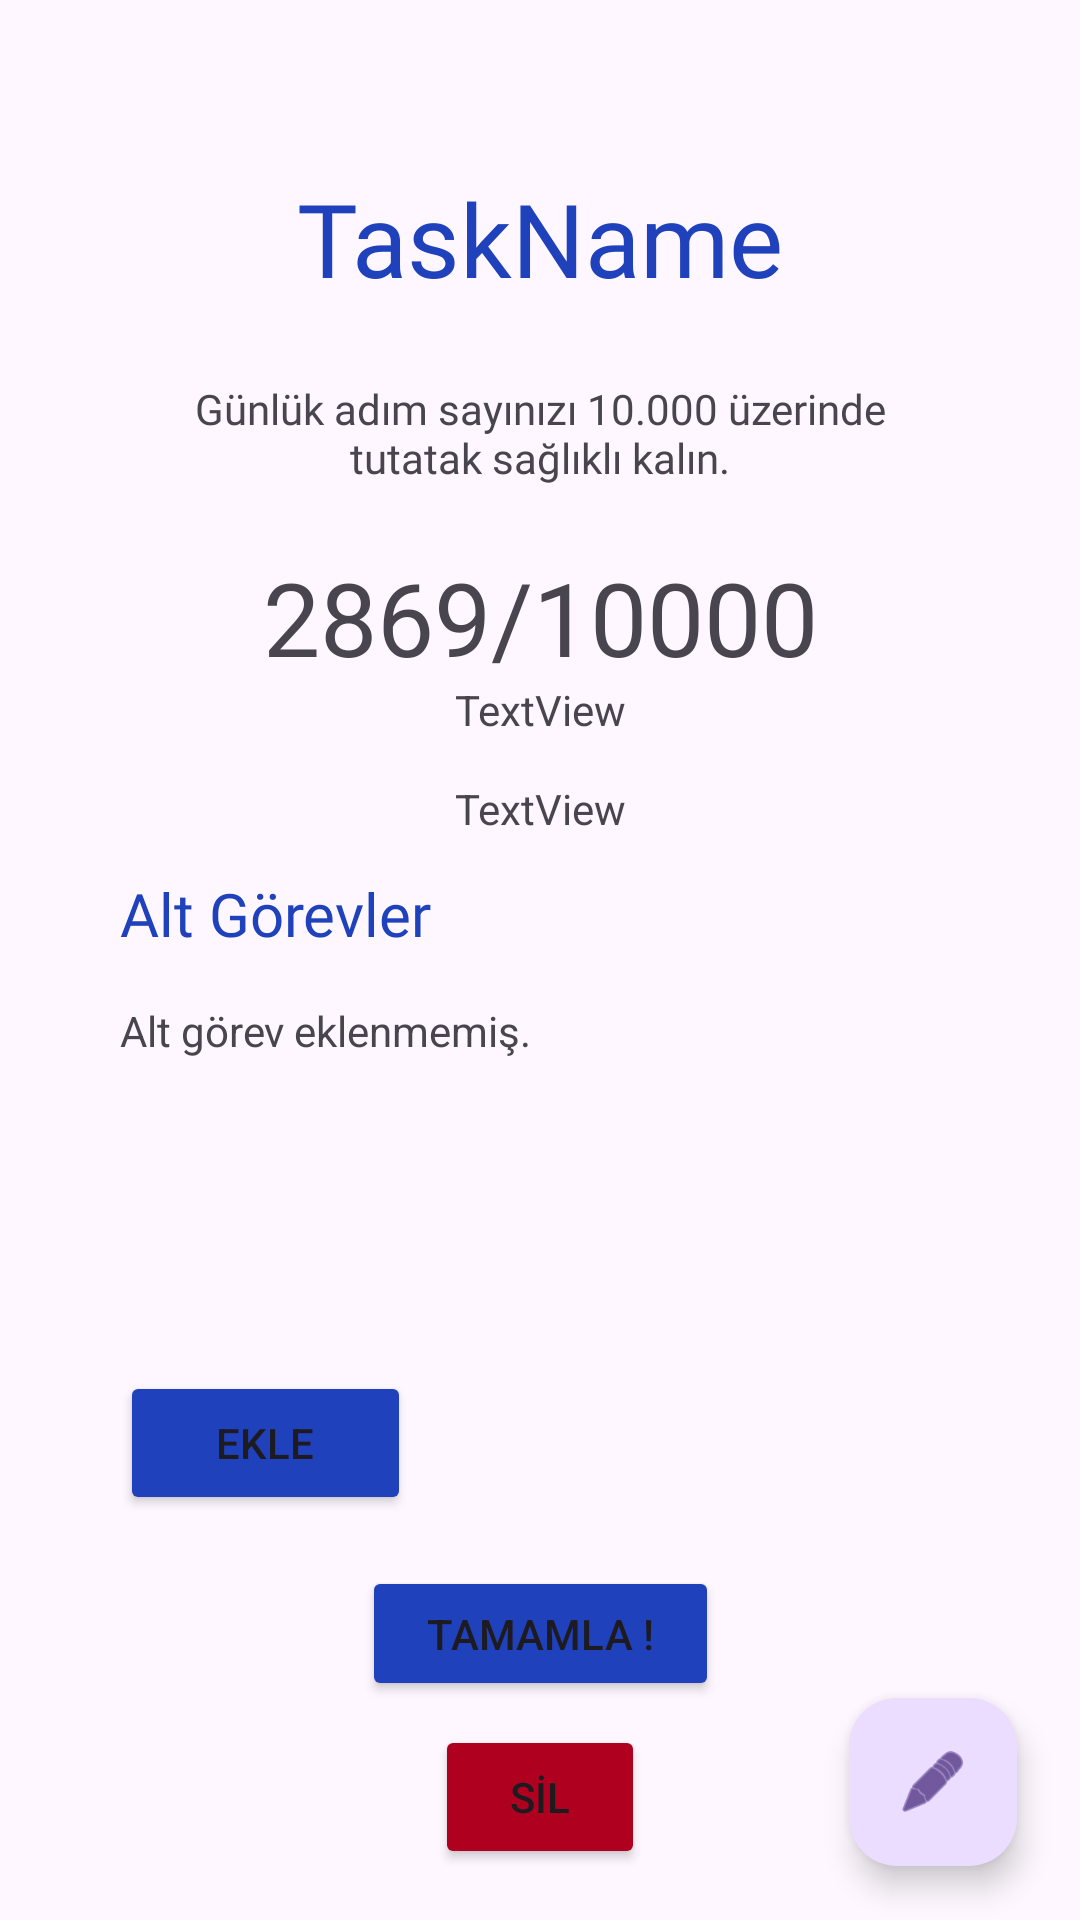

Named icons in this screenshot (1080*1920) and their bounding boxes, (x1,y1,x2,y2):
edit: (849,1698,1017,1866)
